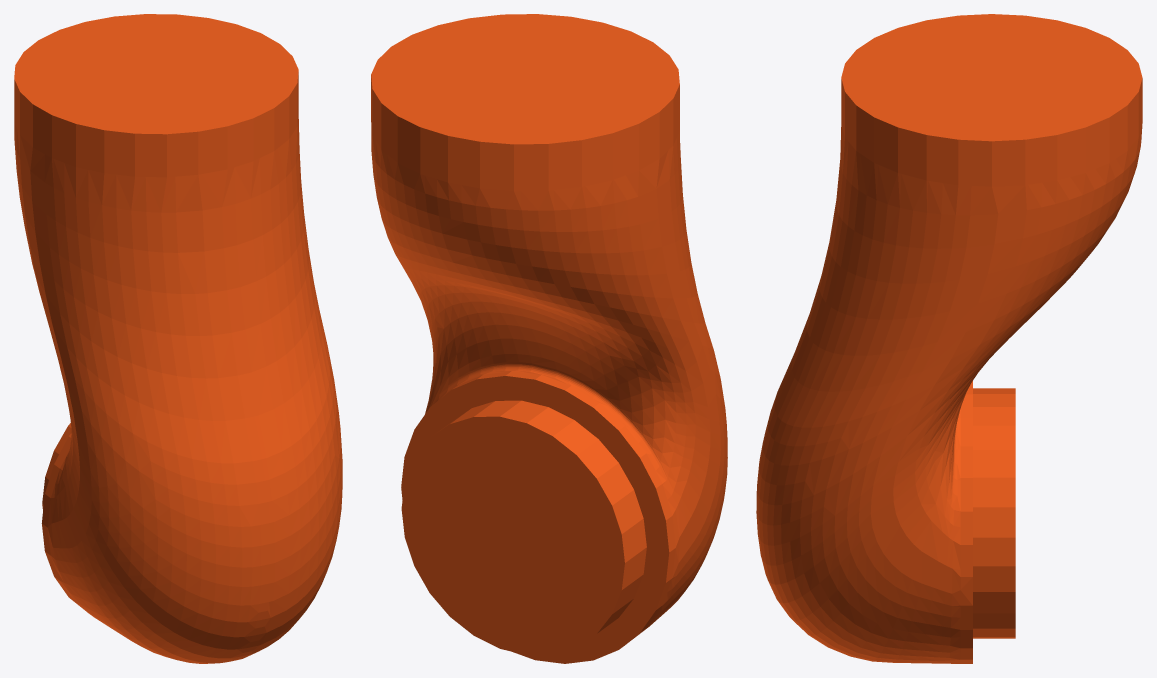
The picture shows the model from 3 angles, left to right: view 1: azimuth 30°, elevation 25°; view 2: azimuth 150°, elevation 25°; view 3: azimuth 270°, elevation 25°; orthographic projection. The views are drawn at different scales.
Parts seen in each view (by area): view 1: link_4; view 2: link_4; view 3: link_4.
Part boxes in pixels (box(x1,y1,x2,y2)): link_4: box(14, 14, 342, 663); link_4: box(371, 14, 727, 663); link_4: box(756, 14, 1142, 663).
Bounding box in the file's own units: 0.12 × 0.1538 × 0.2515.
